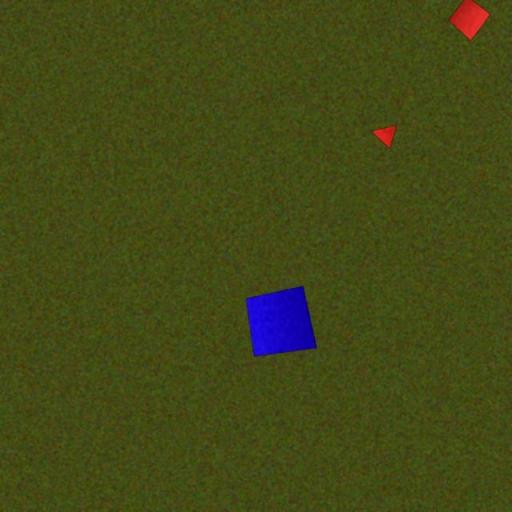BLUE_SQUARE: (244, 284, 318, 358)
RED_SQUARE: (448, 0, 491, 42)
